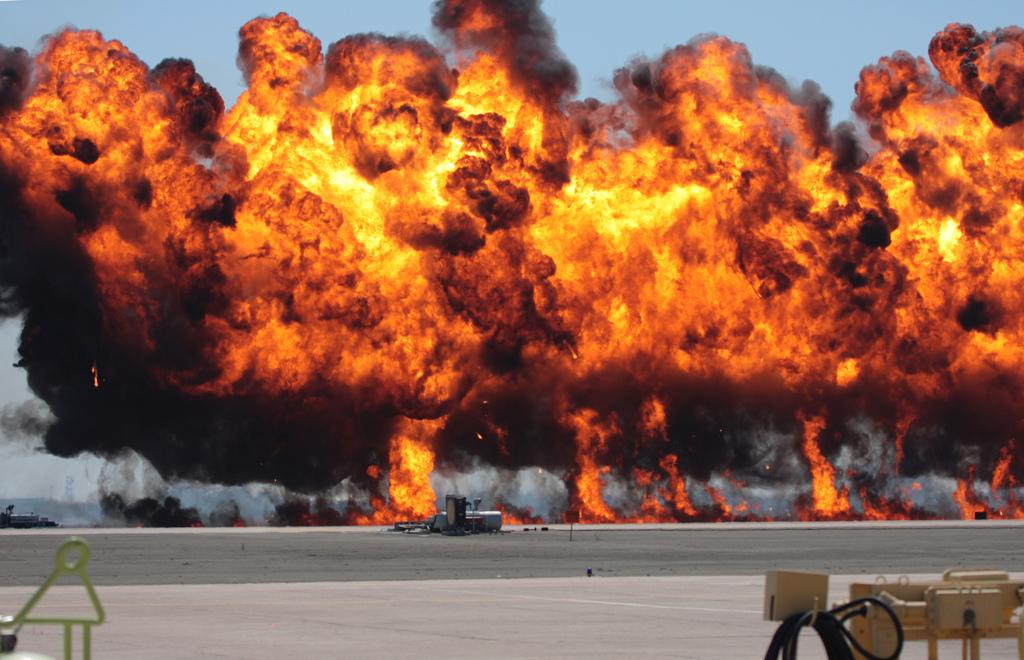fire: (560, 160, 742, 287), (268, 113, 398, 262)
